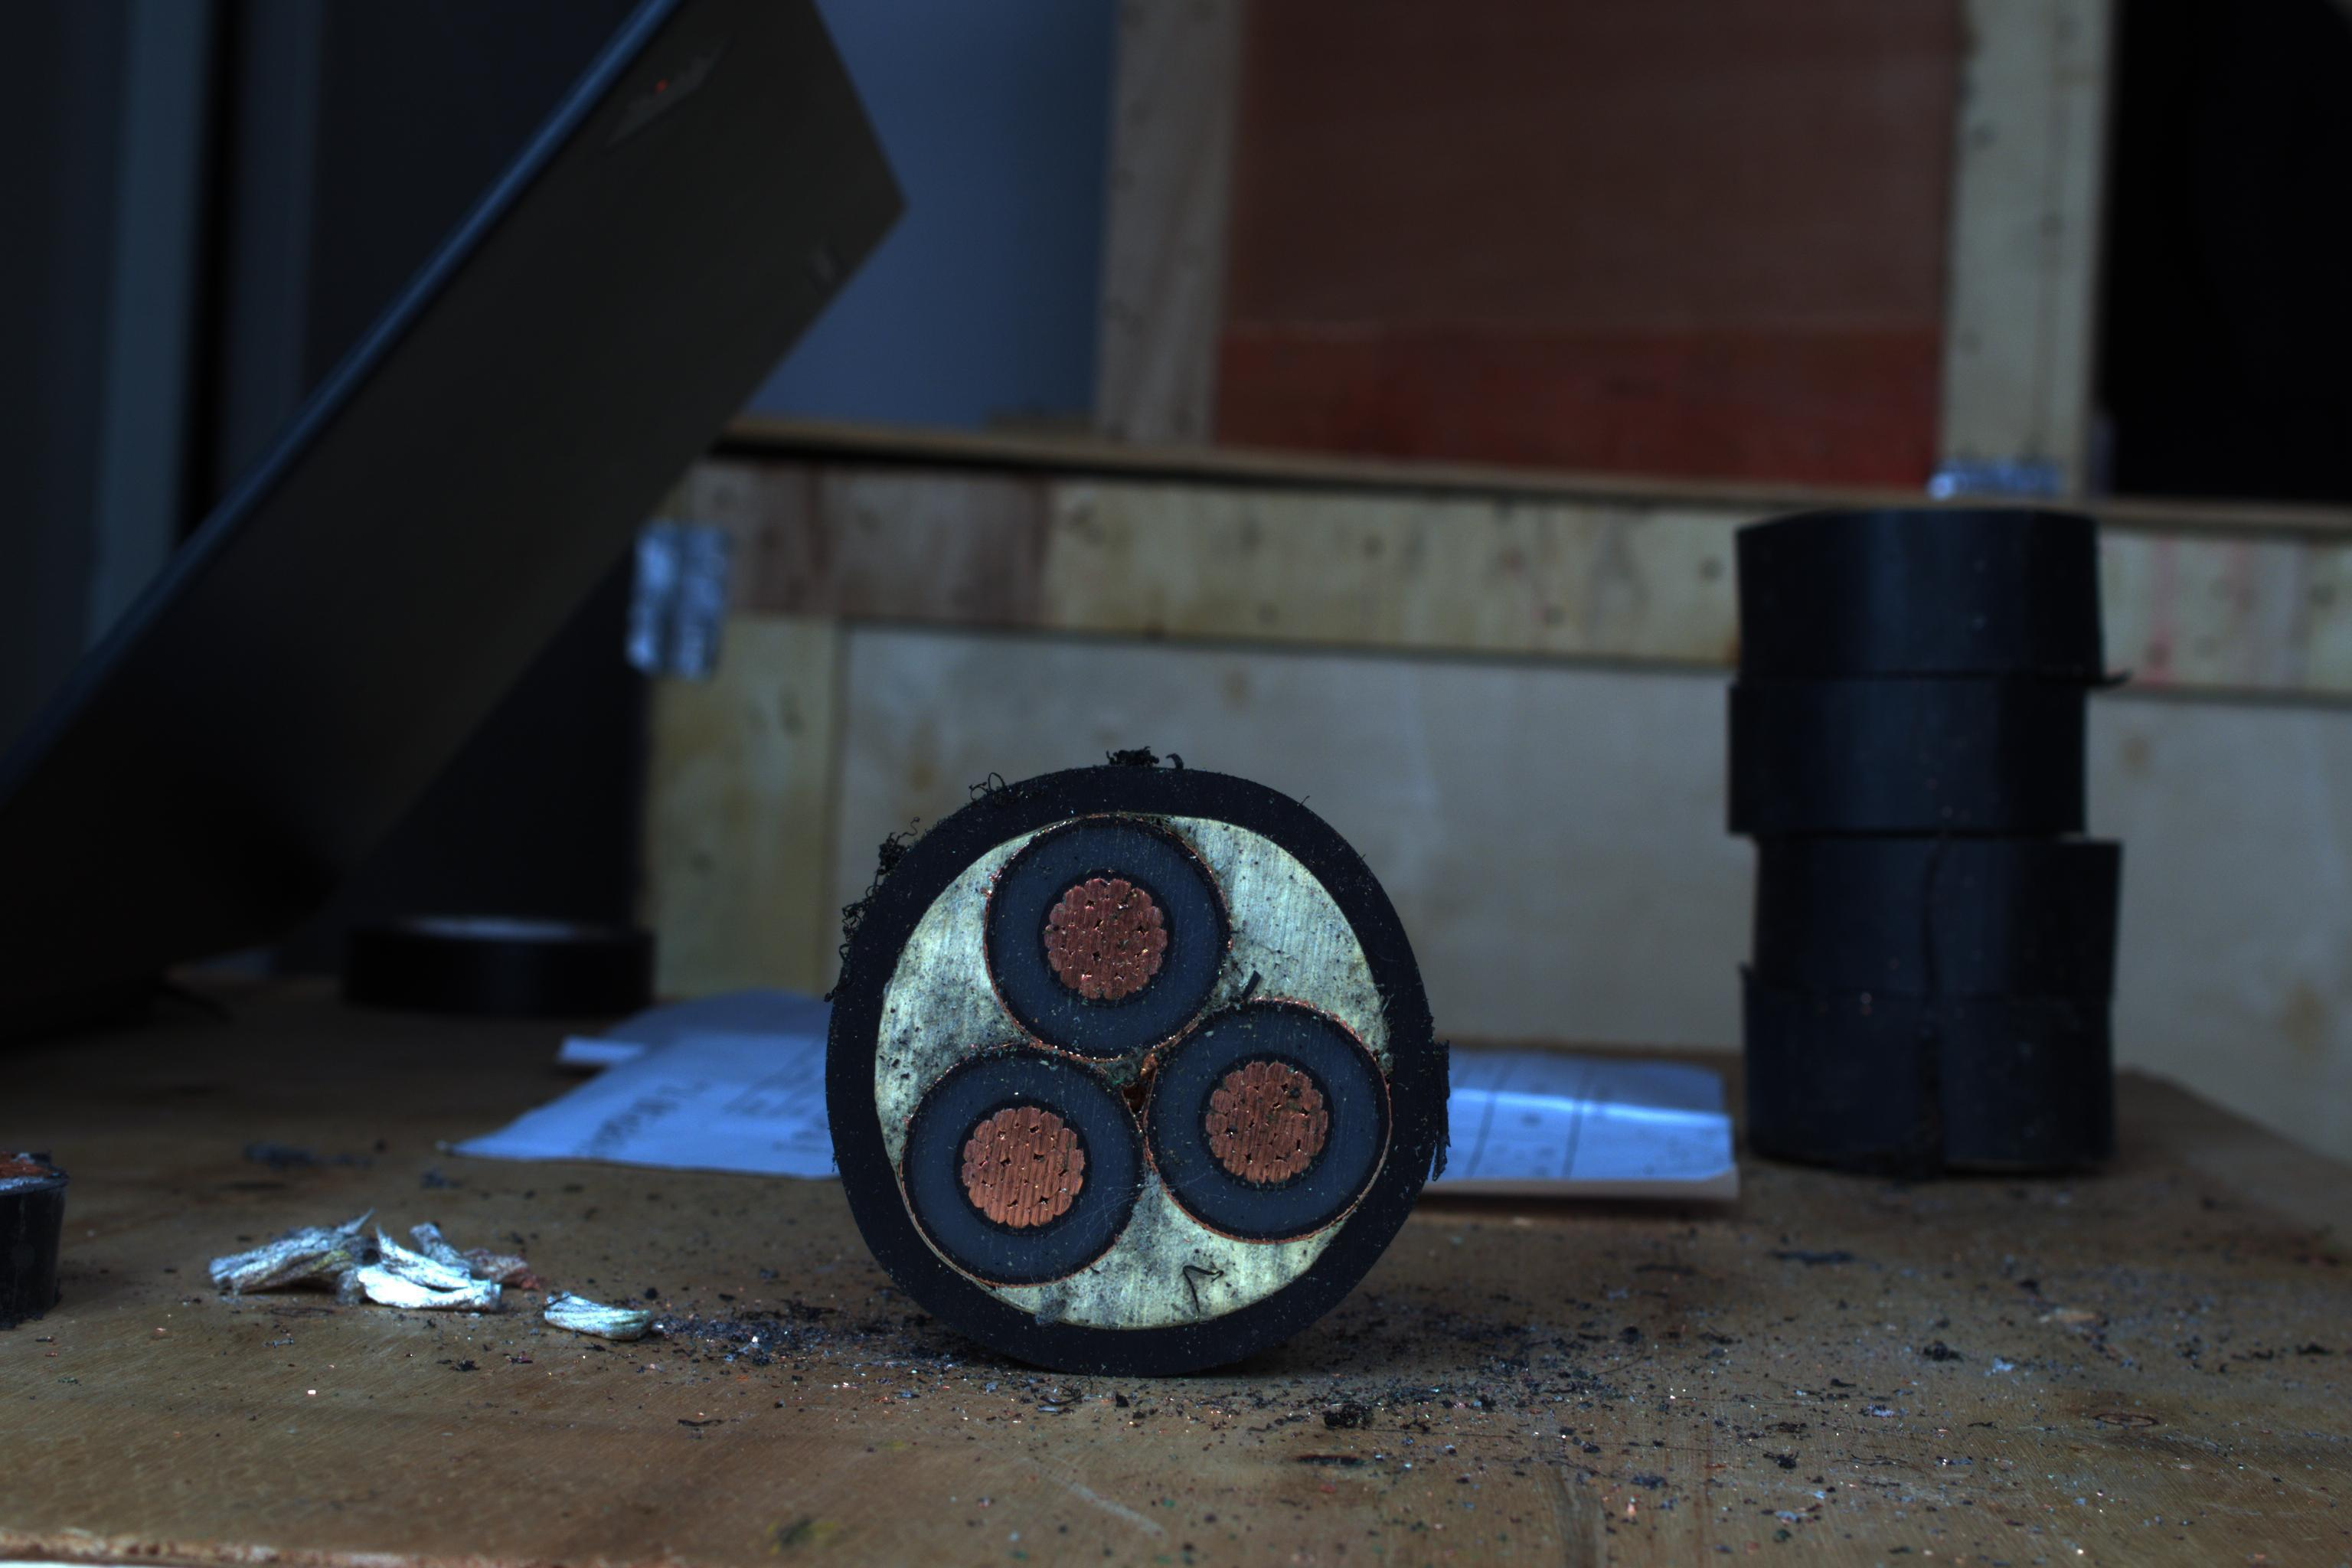ZA_YJV_8.7_10kV_3x120: (812, 770, 1424, 1344)
